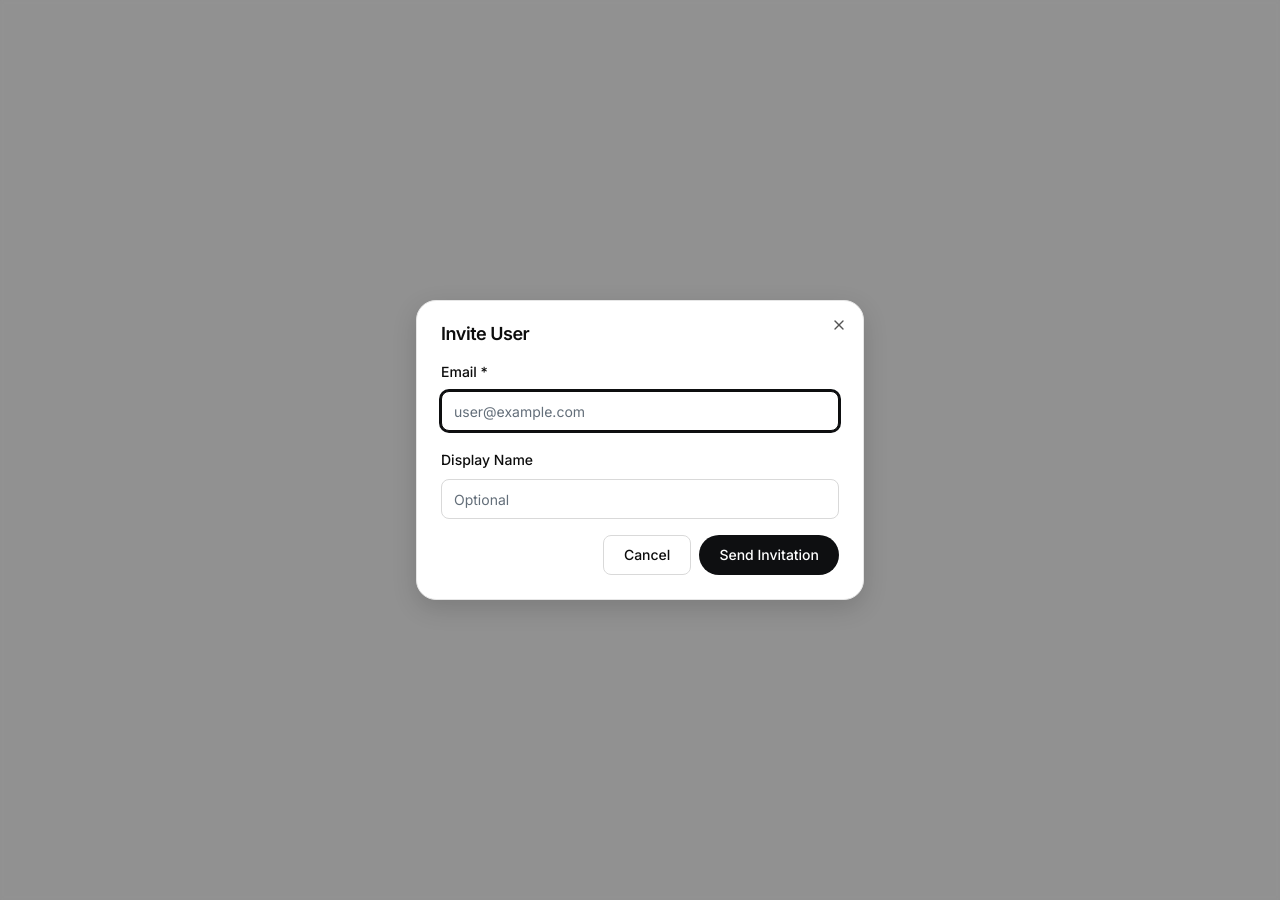
InviteUserDialog › shows validation error for invalid email
Note: Submit without entering any email to trigger zod validation
Click the button "Send Invitation" at (769, 555), box [699,535,839,575]
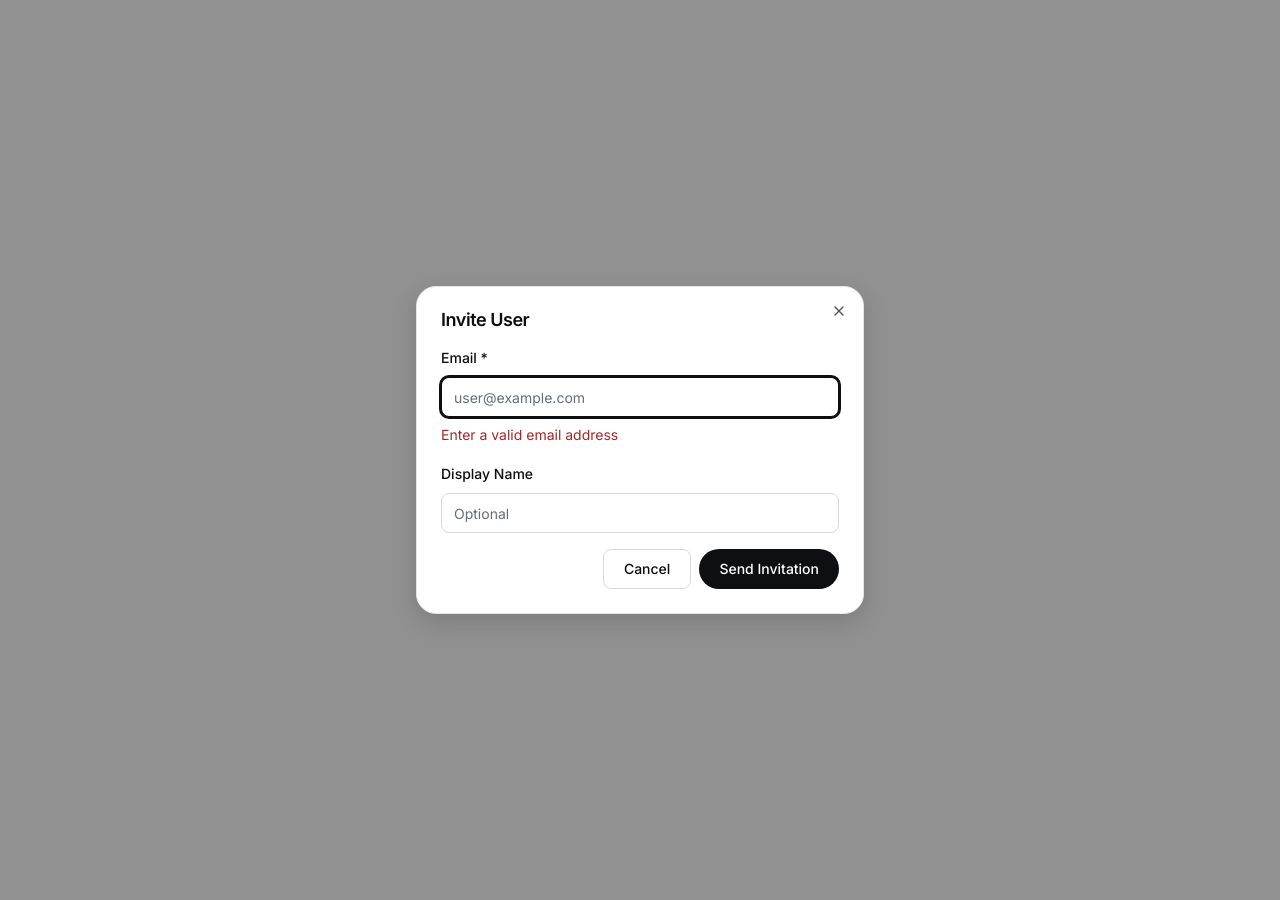
Expected: the text "Enter a valid email address" is shown, [441,426,618,443]
